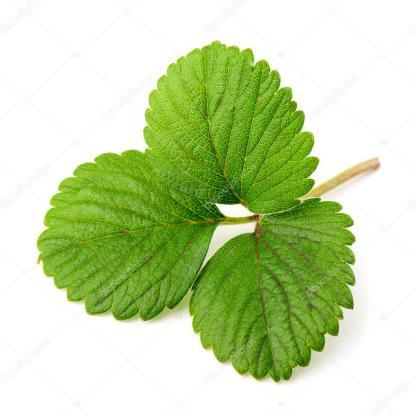Strawberry leaf: (31, 140, 221, 326), (188, 193, 360, 386), (138, 36, 316, 216)
